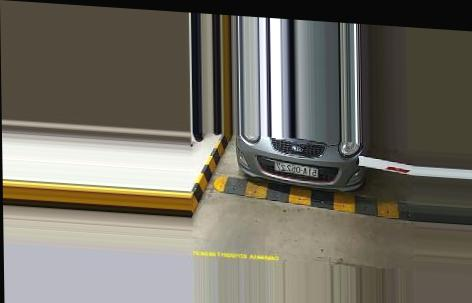License_Plate: (271, 161, 318, 178)
